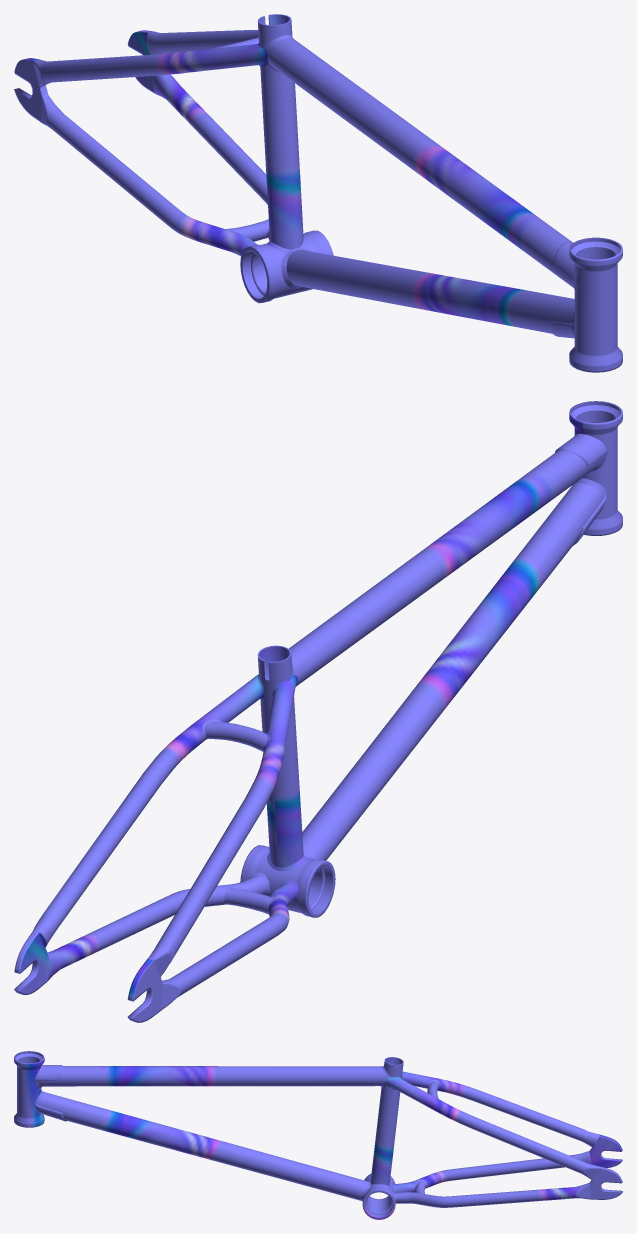
The model's file is BMX_Frame_Fat Bill Co_Hedart.fbx.
3 renders of one model, top to bottom at view 1: azimuth 30°, elevation 25°; view 2: azimuth 150°, elevation 25°; view 3: azimuth 270°, elevation 25°, orthographic. The views are drawn at different scales.
Visible parts, largest first — view 1: BMX_Frame_FatBillCo_Hedart; view 2: BMX_Frame_FatBillCo_Hedart; view 3: BMX_Frame_FatBillCo_Hedart.
Boxes of the visible parts, <box> form: BMX_Frame_FatBillCo_Hedart: <box>14,14,622,372</box>; BMX_Frame_FatBillCo_Hedart: <box>14,401,622,1022</box>; BMX_Frame_FatBillCo_Hedart: <box>14,1051,622,1219</box>.
Bounding box in the file's own units: 12.79 × 24.63 × 88.74.
1 material, 1 textured.
